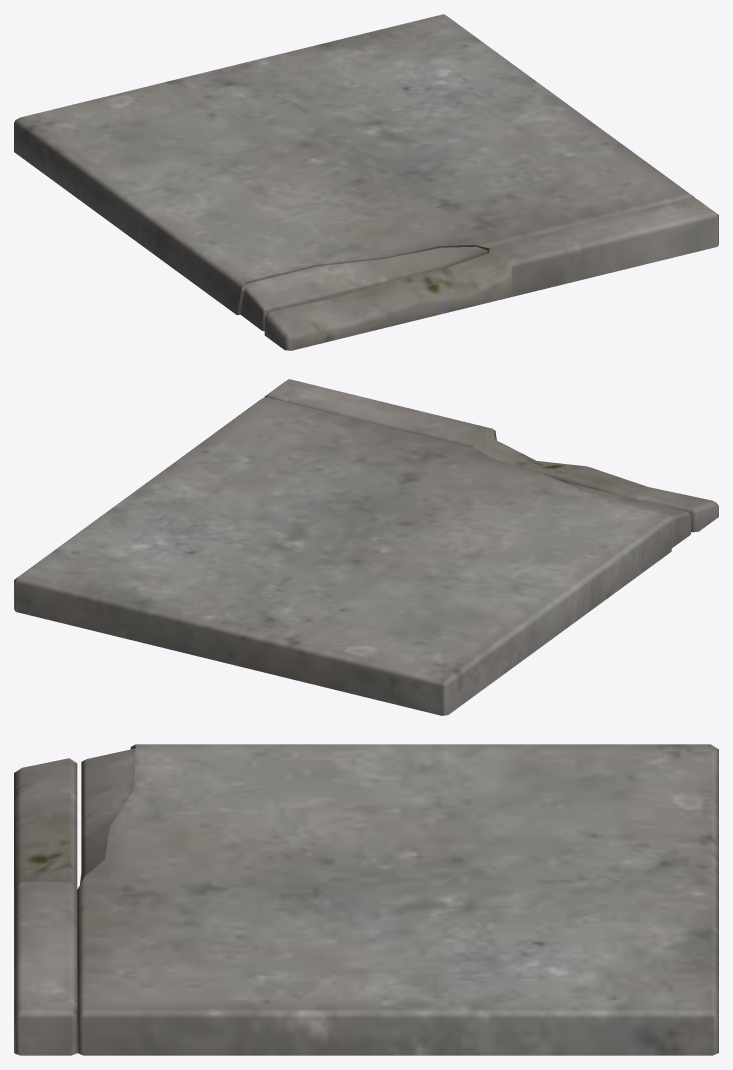
File: SidewalkCrackedCurb.glb
The picture shows the model from 3 angles, top to bottom: view 1: azimuth 30°, elevation 25°; view 2: azimuth 150°, elevation 25°; view 3: azimuth 270°, elevation 25°; orthographic projection. The views are drawn at different scales.
Parts seen in each view (by area): view 1: SidewalkCracked_SidewalkMat_0; view 2: SidewalkCracked_SidewalkMat_0; view 3: SidewalkCracked_SidewalkMat_0.
Boxes of the visible parts, x1,y1,x2,y2 form: SidewalkCracked_SidewalkMat_0: (14, 14, 718, 350); SidewalkCracked_SidewalkMat_0: (14, 379, 718, 715); SidewalkCracked_SidewalkMat_0: (14, 744, 718, 1055).
Size of the model in its own units: 2.01 by 0.1494 by 2.21.
Materials: 1 (1 with a texture image).
